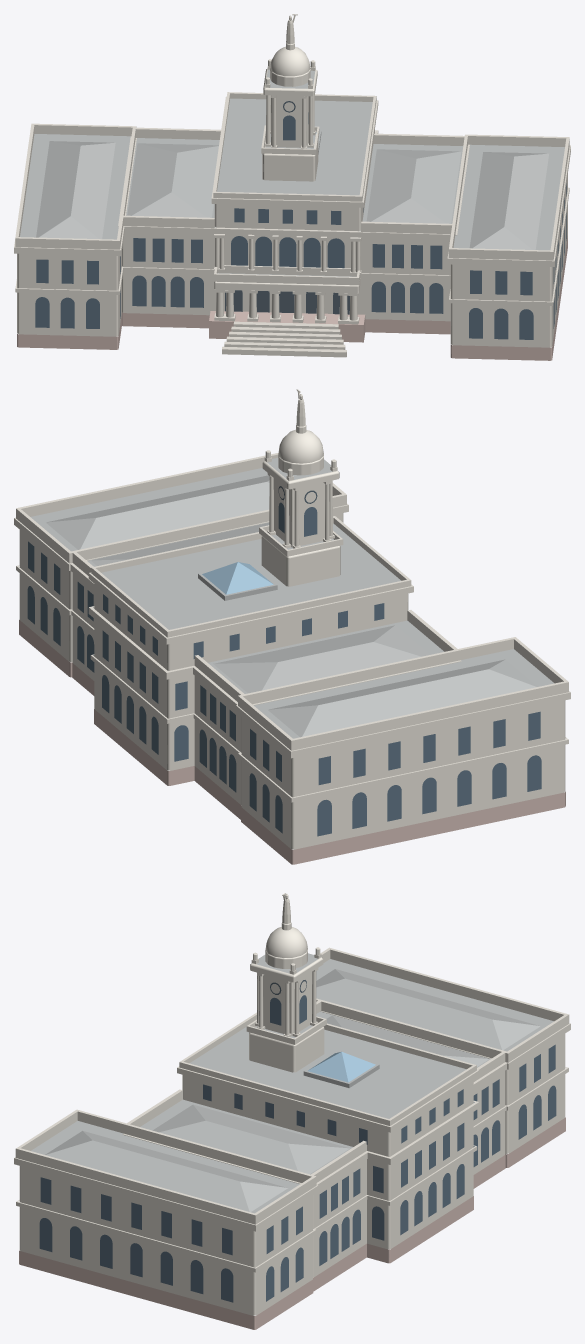
3 views of the same model, one above another, from view 1: azimuth 30°, elevation 25°; view 2: azimuth 150°, elevation 25°; view 3: azimuth 270°, elevation 25° (orthographic). The views are drawn at different scales.
Visible parts, largest first — view 1: new-york-city-hall; view 2: new-york-city-hall; view 3: new-york-city-hall.
Boxes of the visible parts, x1,y1,x2,y2 form: new-york-city-hall: (14,14,570,360); new-york-city-hall: (14,389,570,864); new-york-city-hall: (14,893,570,1329).
Bounding box in the file's own units: 74.73 × 39.15 × 65.32.
